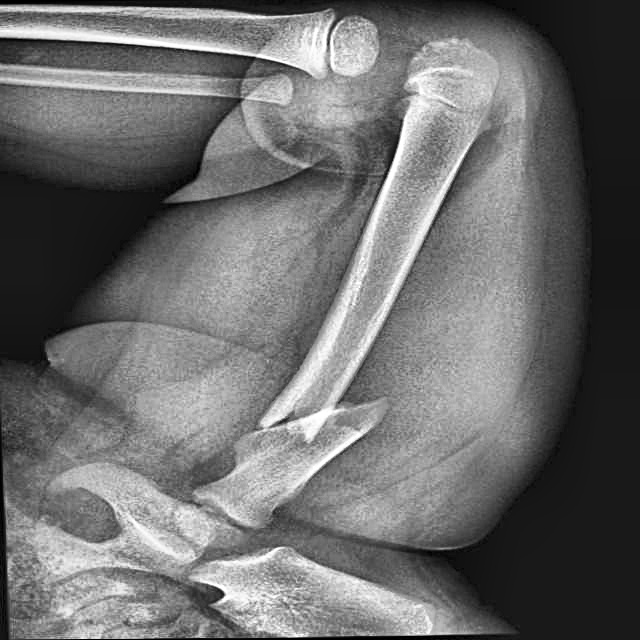Oblique: (230, 377, 407, 460)
